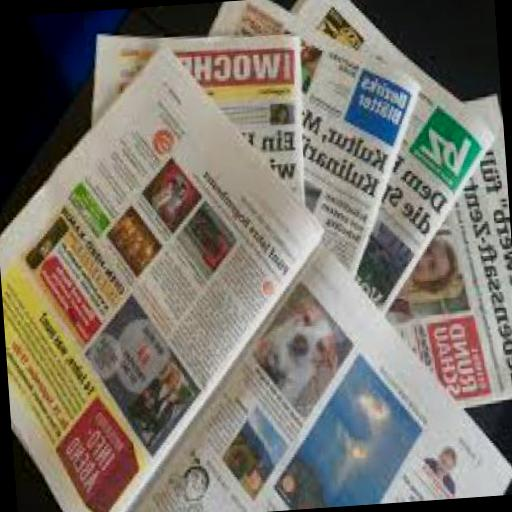paper: (0, 30, 345, 512), (106, 226, 512, 512), (288, 0, 512, 369), (205, 0, 438, 348), (281, 91, 512, 422), (87, 18, 318, 288)
